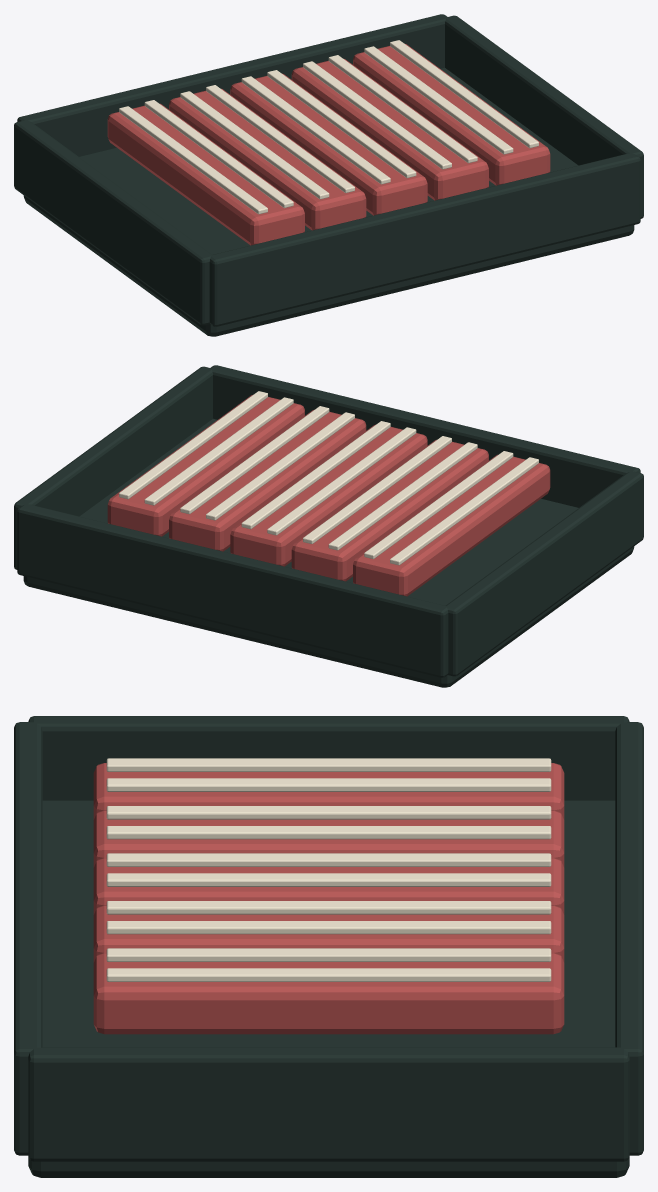
The model's file is bacon.fbx.
The picture shows the model from 3 angles, top to bottom: view 1: azimuth 30°, elevation 25°; view 2: azimuth 150°, elevation 25°; view 3: azimuth 270°, elevation 25°; orthographic projection. The views are drawn at different scales.
Visible parts, largest first — view 1: bacon; view 2: bacon; view 3: bacon.
Boxes of the visible parts, <box> form: bacon: <box>14,14,643,336</box>; bacon: <box>14,365,643,687</box>; bacon: <box>14,716,643,1177</box>.
Size of the model in its own units: 31.1 by 6.35 by 24.1.
